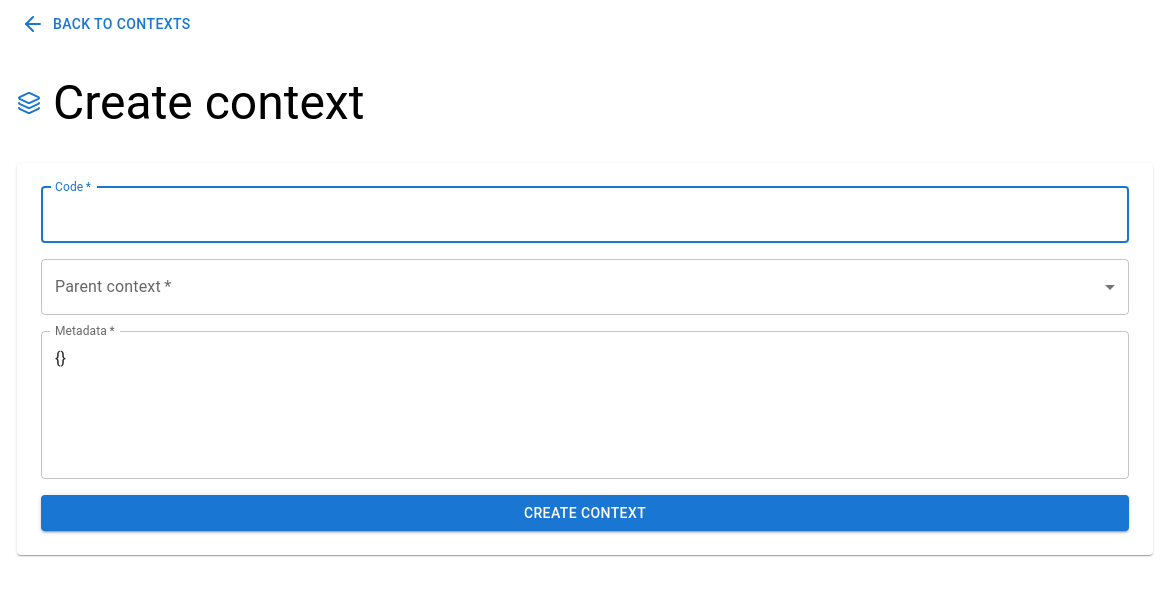
Test: CreateContextPage › reports an invalid code beside the field without creating the context
Step 1. Type "Bad Code!" into the field labelled "Code" → [585, 214], box x1=41 y1=186 x2=1129 y2=242
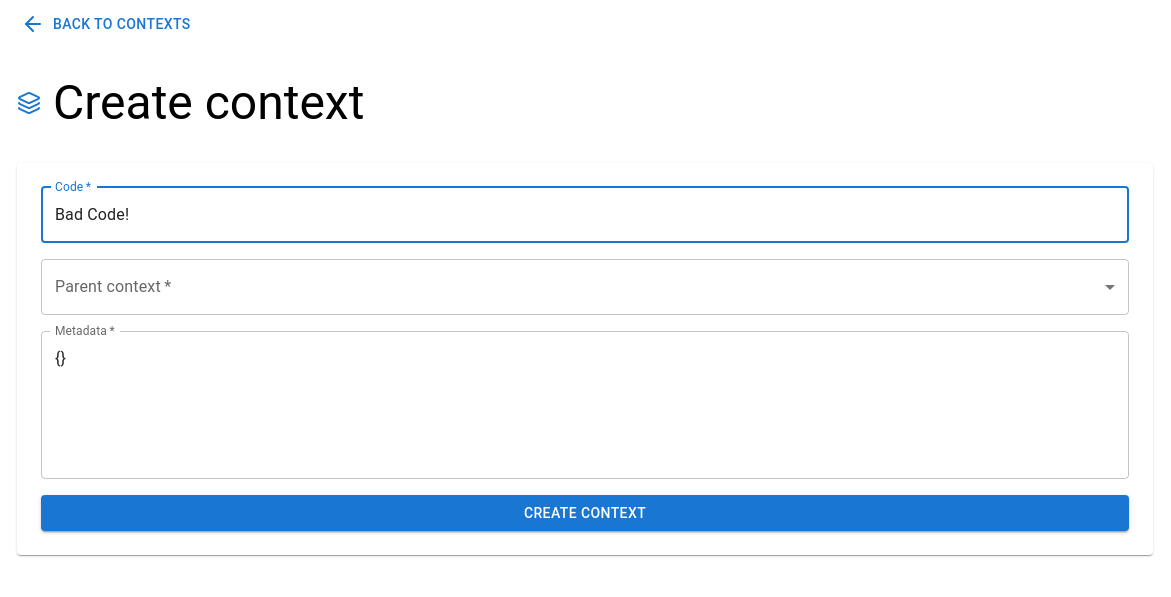
Step 2. Click the dropdown named "Parent context" → [585, 286], box x1=41 y1=258 x2=1129 y2=314
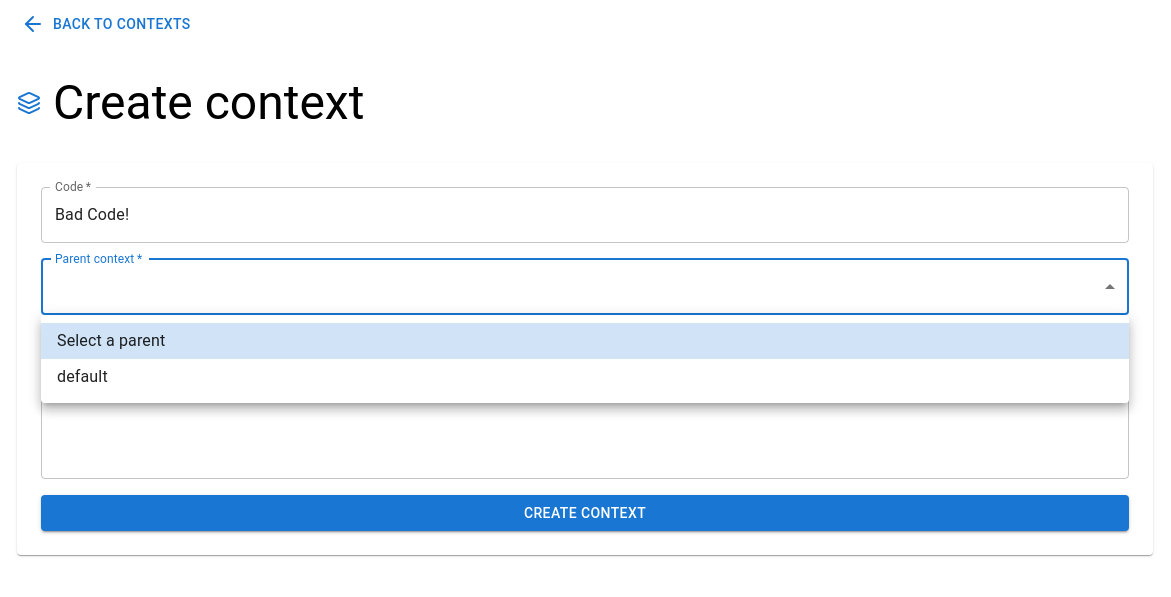
Step 3. Click the option "default" → [82, 376], box x1=57 y1=367 x2=108 y2=386
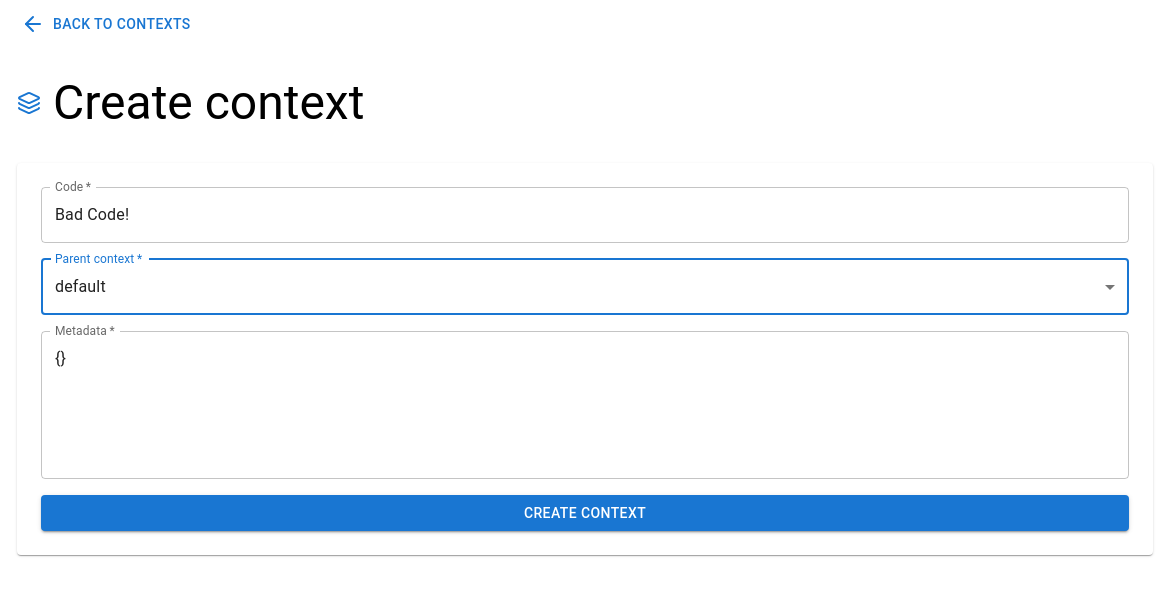
Step 4. Click the button "Create context" → [585, 513], box x1=41 y1=494 x2=1129 y2=531
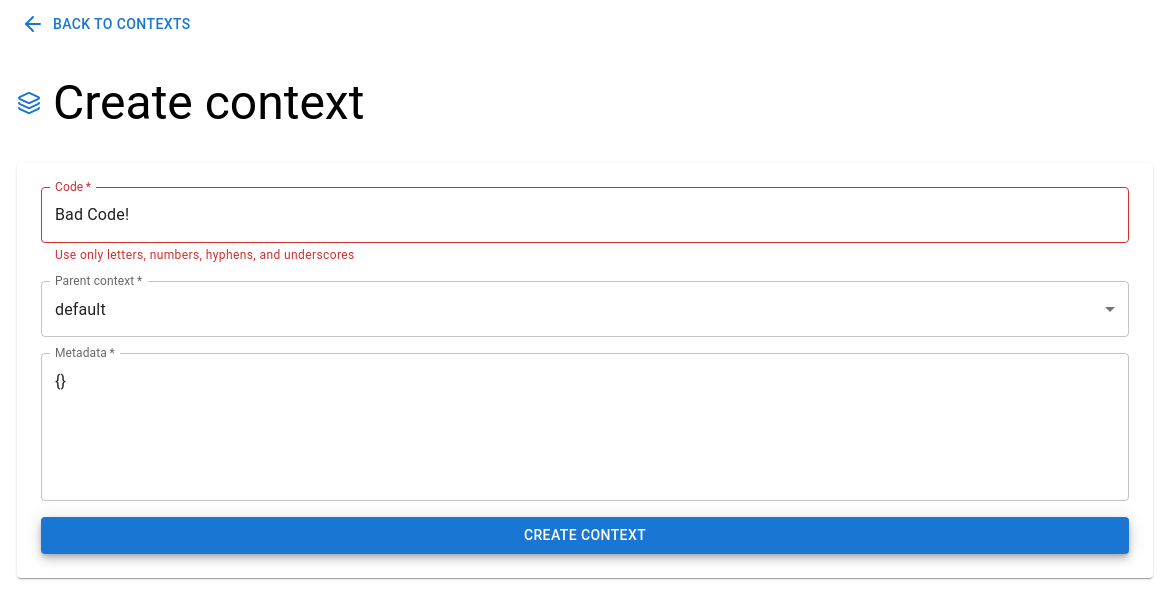
expect the text "Use only letters, numbers, hyphens, and underscores" is shown: met, box x1=55 y1=248 x2=355 y2=262
